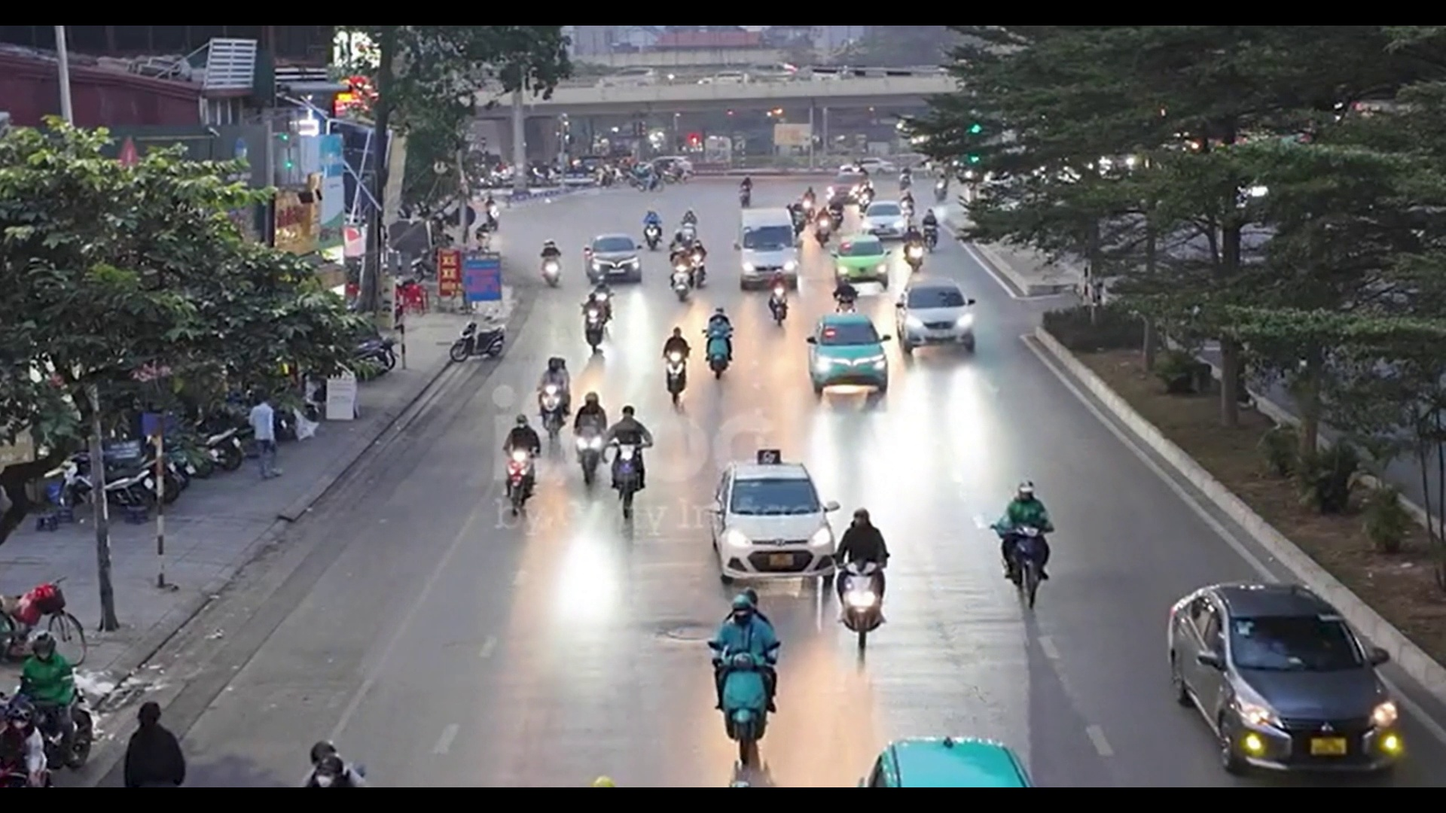car: (1166, 580, 1406, 776), (711, 462, 839, 579), (862, 735, 1034, 785), (806, 312, 893, 400), (898, 281, 978, 356), (735, 214, 800, 293), (829, 237, 888, 295), (586, 233, 644, 285), (863, 200, 913, 243), (582, 289, 613, 349)
motorcycle: (501, 448, 539, 522)
